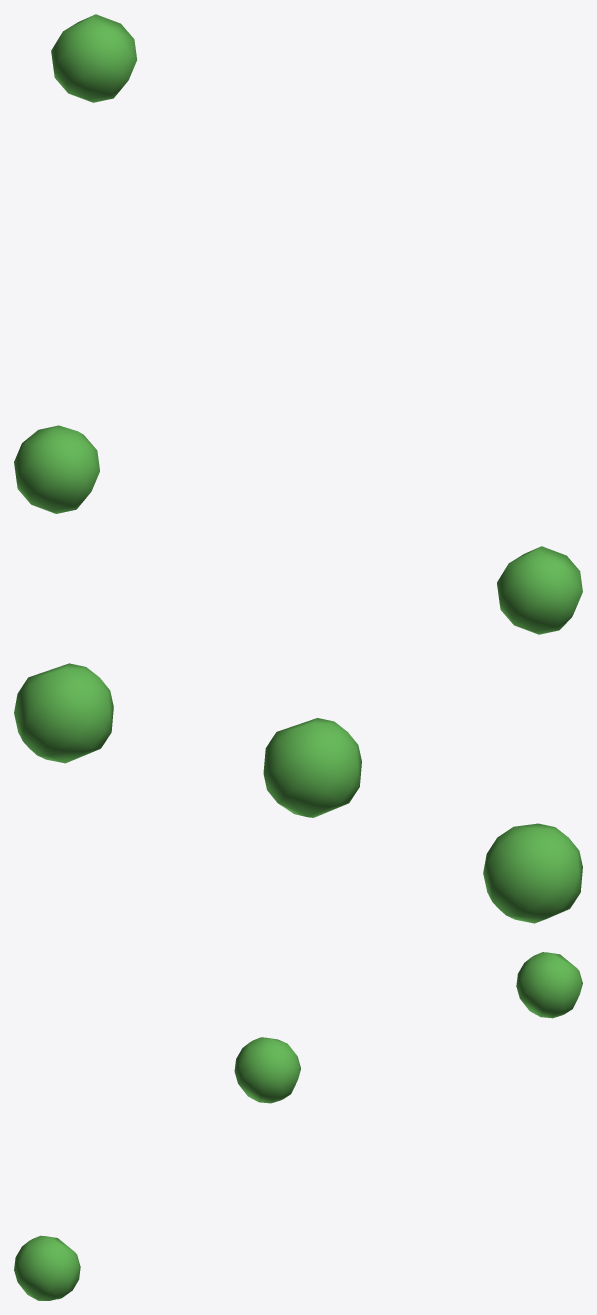
File: linfatico-brachiocephalic-nodes.glb
3 renders of one model, top to bottom at view 1: azimuth 30°, elevation 25°; view 2: azimuth 150°, elevation 25°; view 3: azimuth 270°, elevation 25°, orthographic. The views are drawn at different scales.
Parts seen in each view (by area): view 1: Brachiocephalic nodes; view 2: Brachiocephalic nodes; view 3: Brachiocephalic nodes.
Boxes of the visible parts, bbox=[...] form: Brachiocephalic nodes: bbox=[14, 14, 582, 634]; Brachiocephalic nodes: bbox=[14, 663, 582, 923]; Brachiocephalic nodes: bbox=[14, 952, 582, 1300].
Bounding box in the file's own units: 0.014 × 0.0128 × 0.022.
